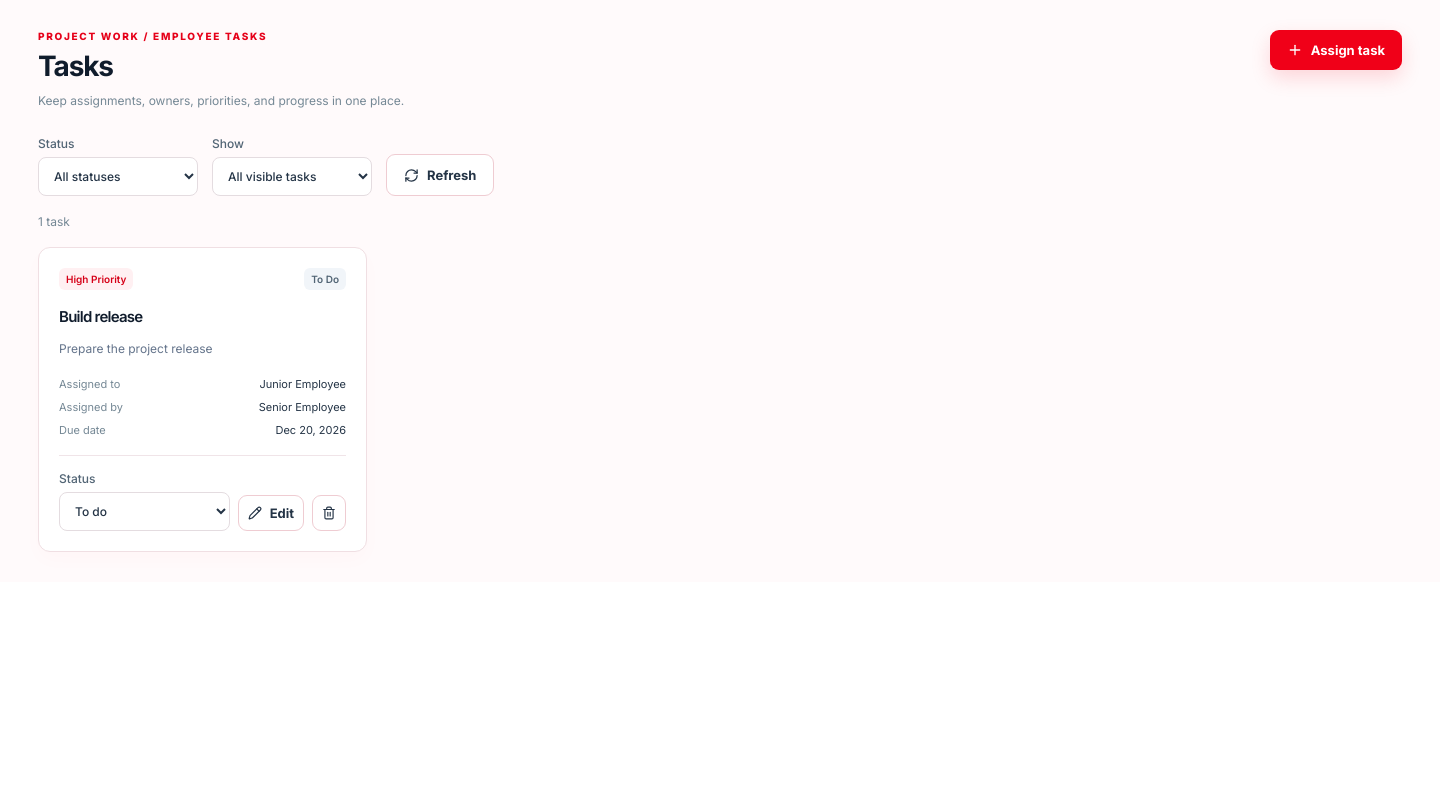
it: Employee tasks › lets a Senior assign a task with employee, due date and priority
This screenshot has width=1440, height=810.
Click the button "Assign task" at point(1336, 50), box [1270, 30, 1402, 70]
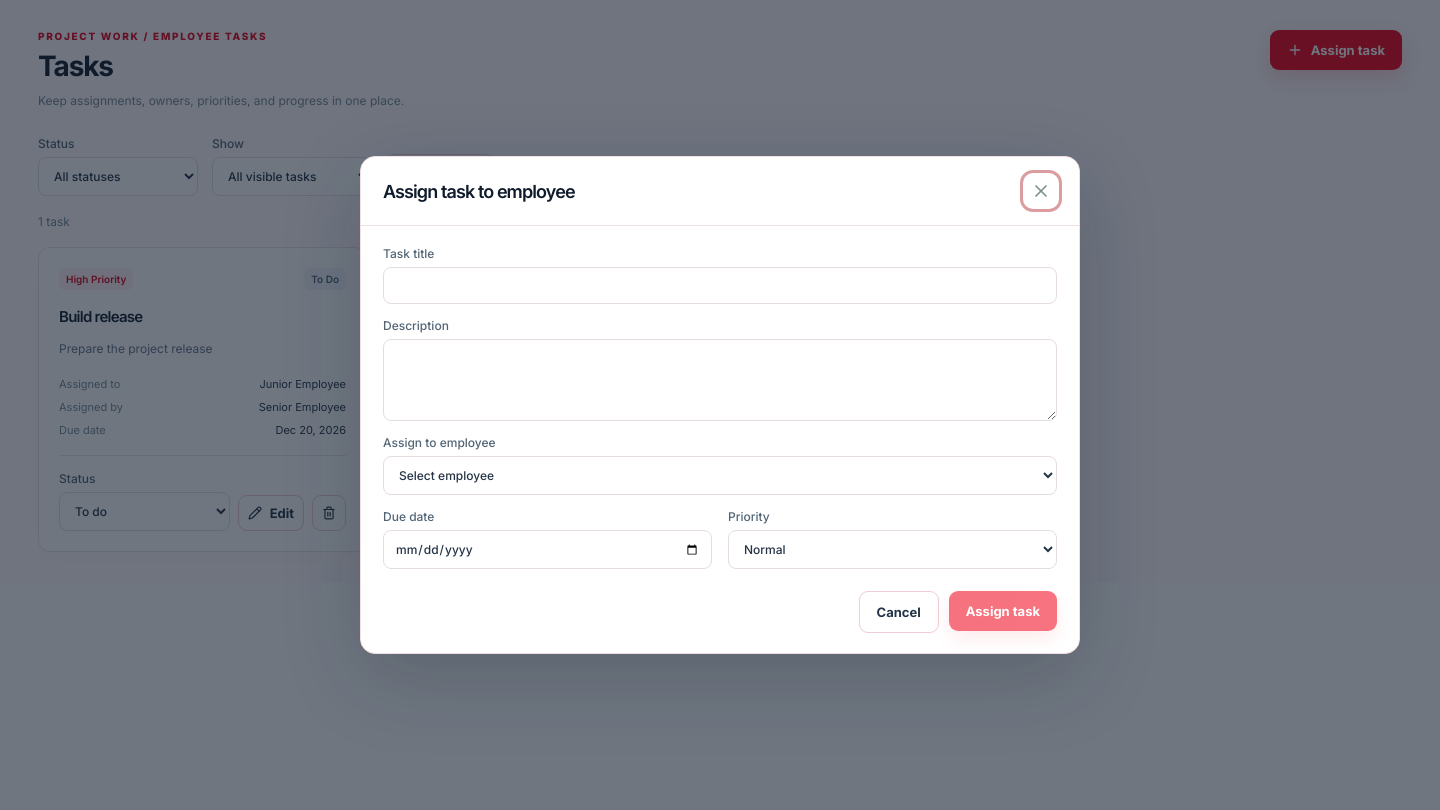
Type "Review release" into the field labelled "Task title" at point(720, 286), box [383, 267, 1057, 304]
Type "Review all checks" into the text box labelled "Description" at point(720, 380), box [383, 339, 1057, 421]
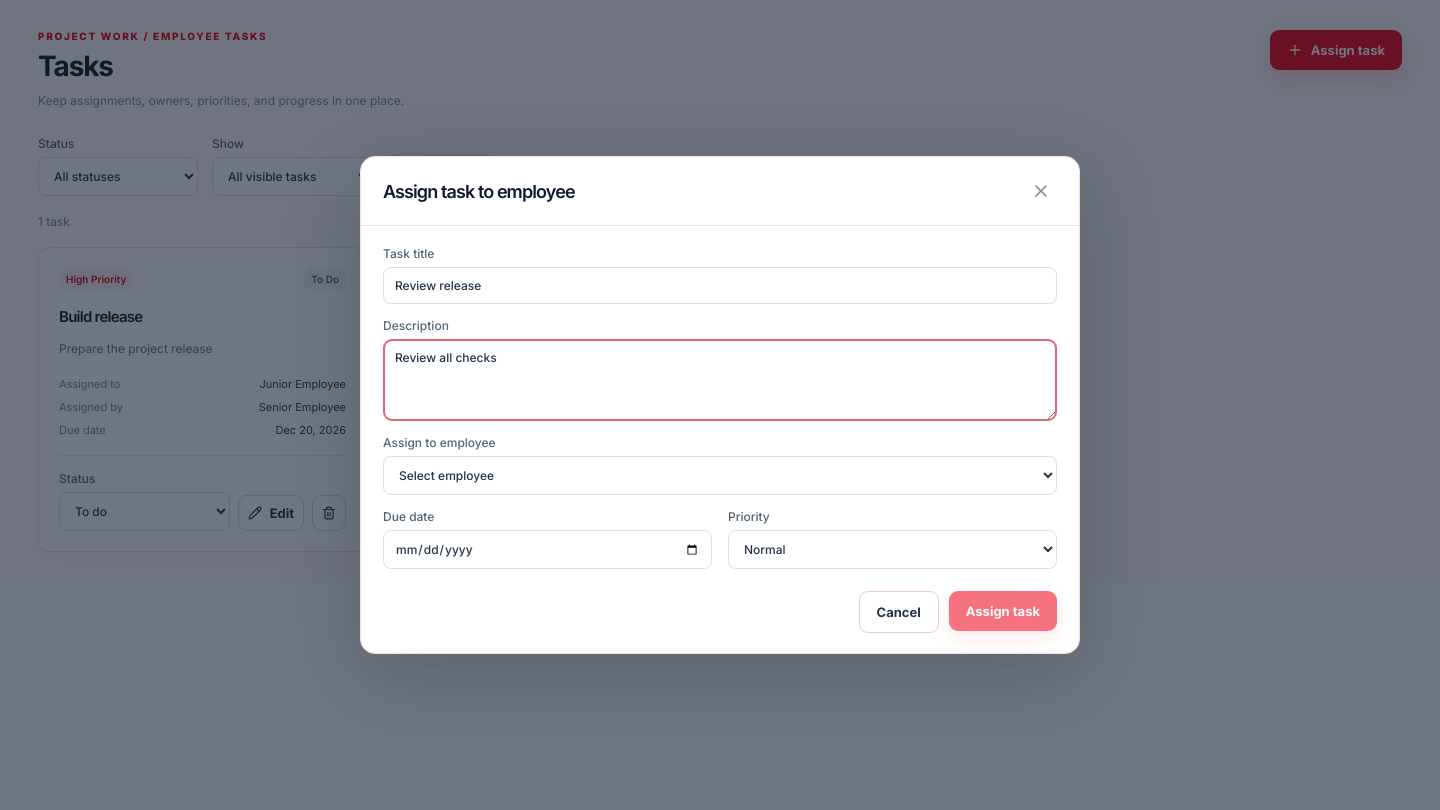
Select "Junior Employee — Developer" in the dropdown labelled "Assign to employee" at point(720, 476), box [383, 456, 1057, 495]
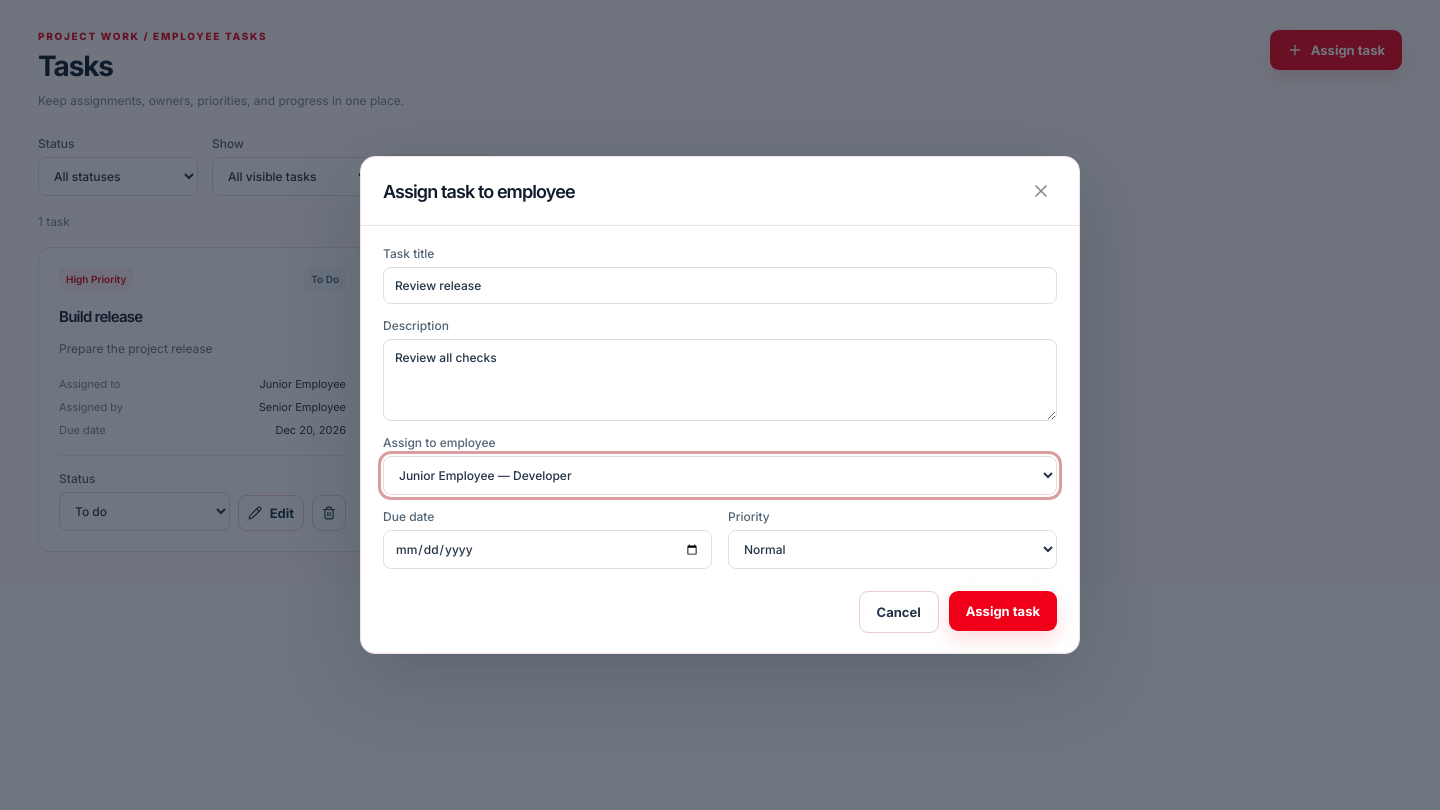
Type "2026-12-20" into the date field labelled "Due date" at point(548, 550), box [383, 530, 712, 569]
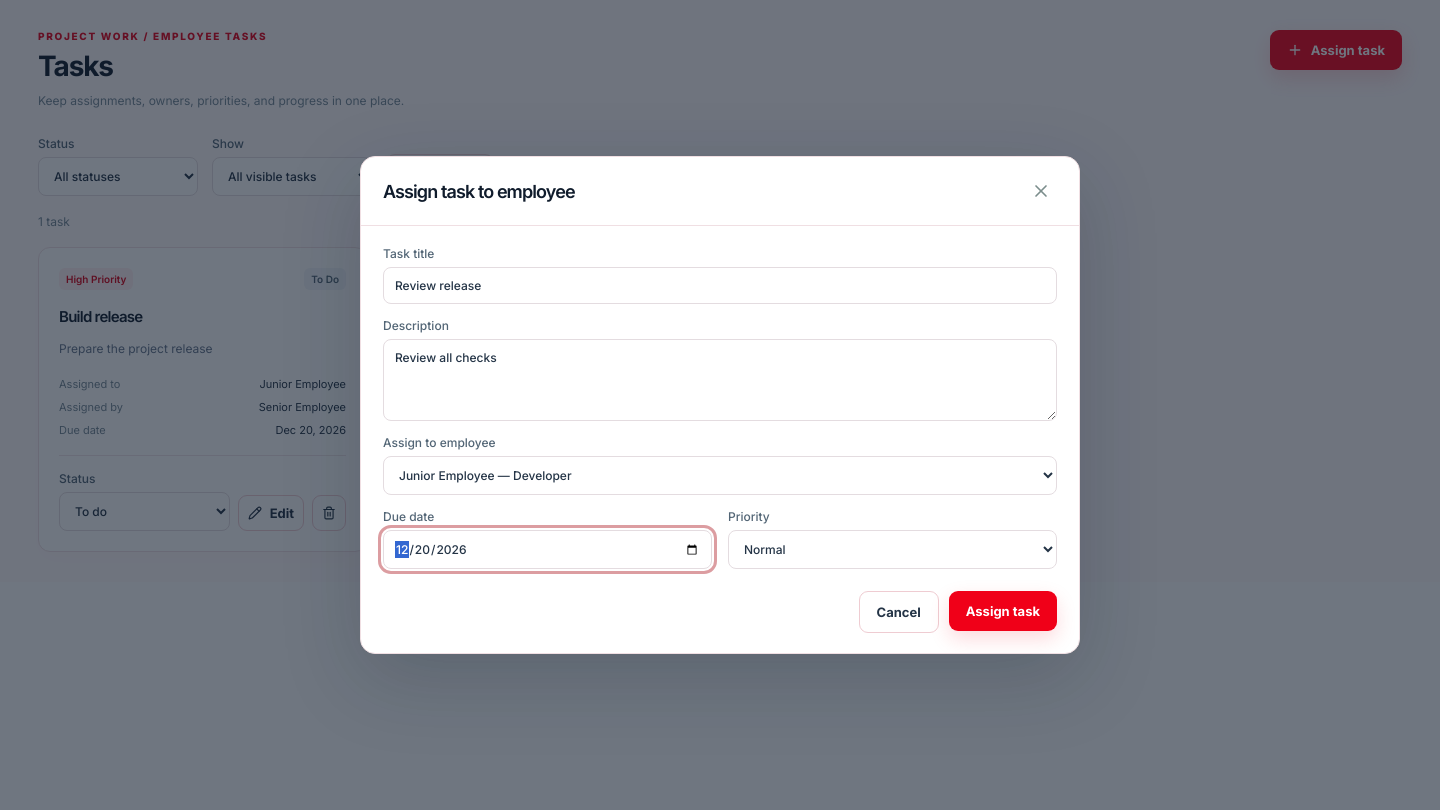
Select "High" in the dropdown labelled "Priority" at point(892, 550), box [728, 530, 1057, 569]
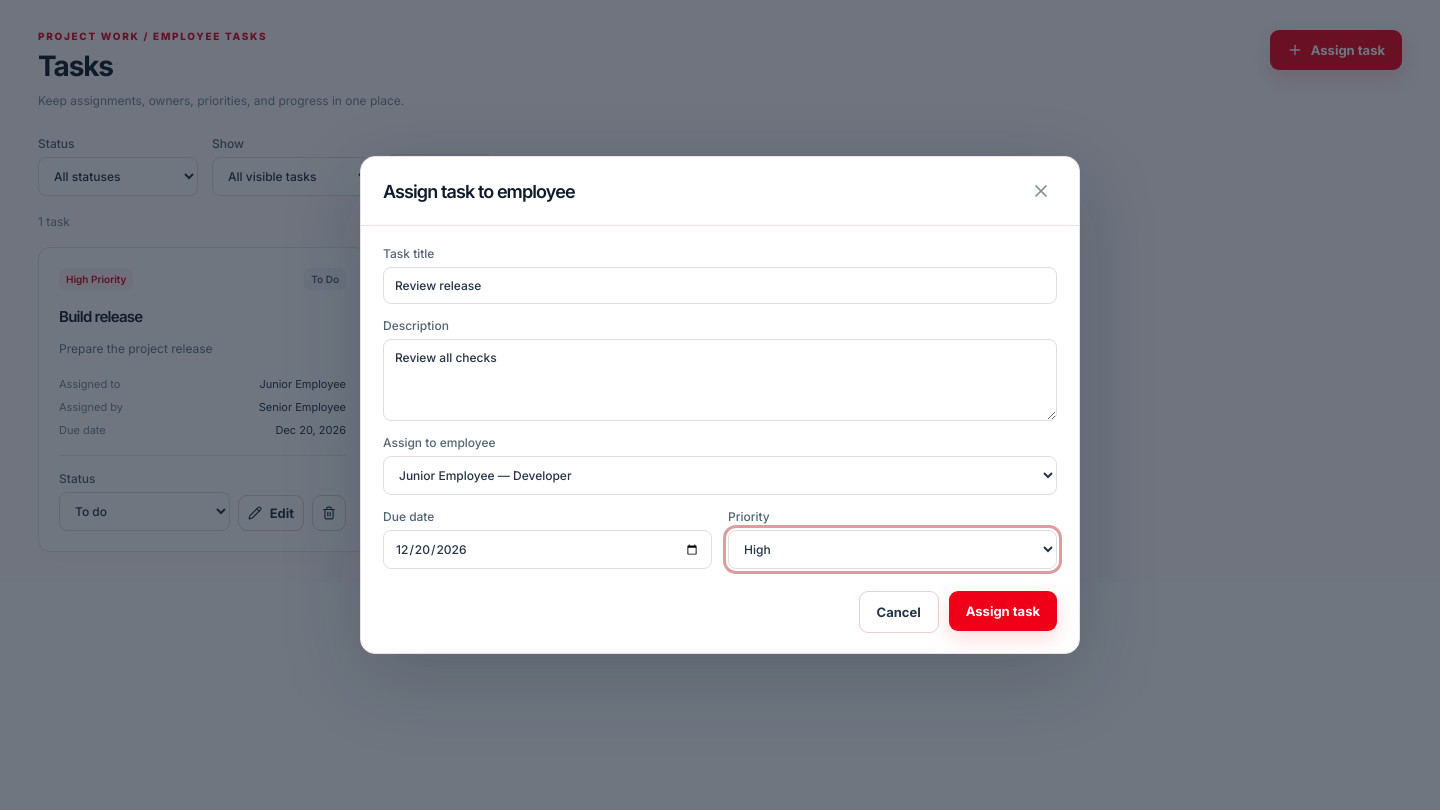
Click the button "Assign task" at point(1003, 611), box [949, 591, 1057, 631]
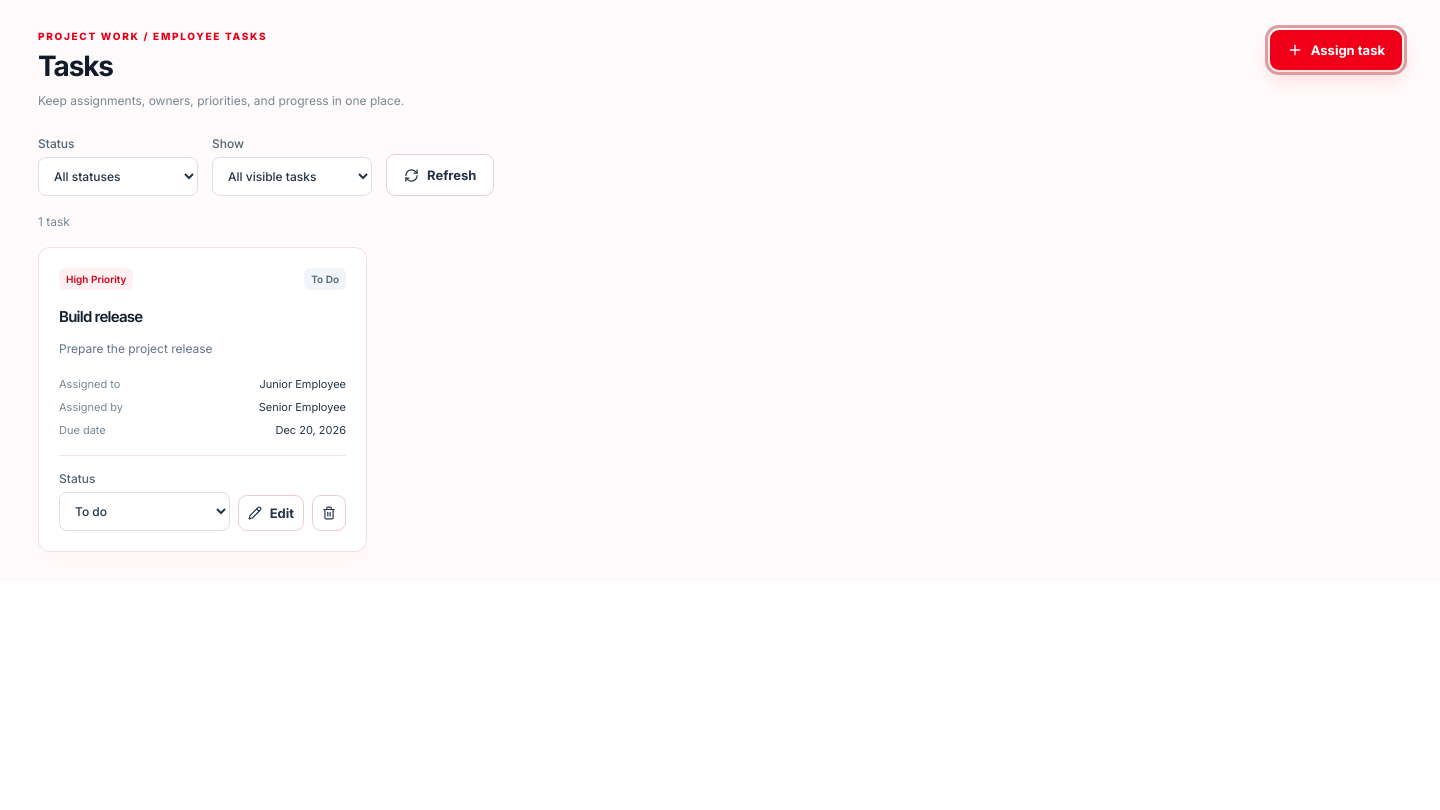
Now the dialog is gone
